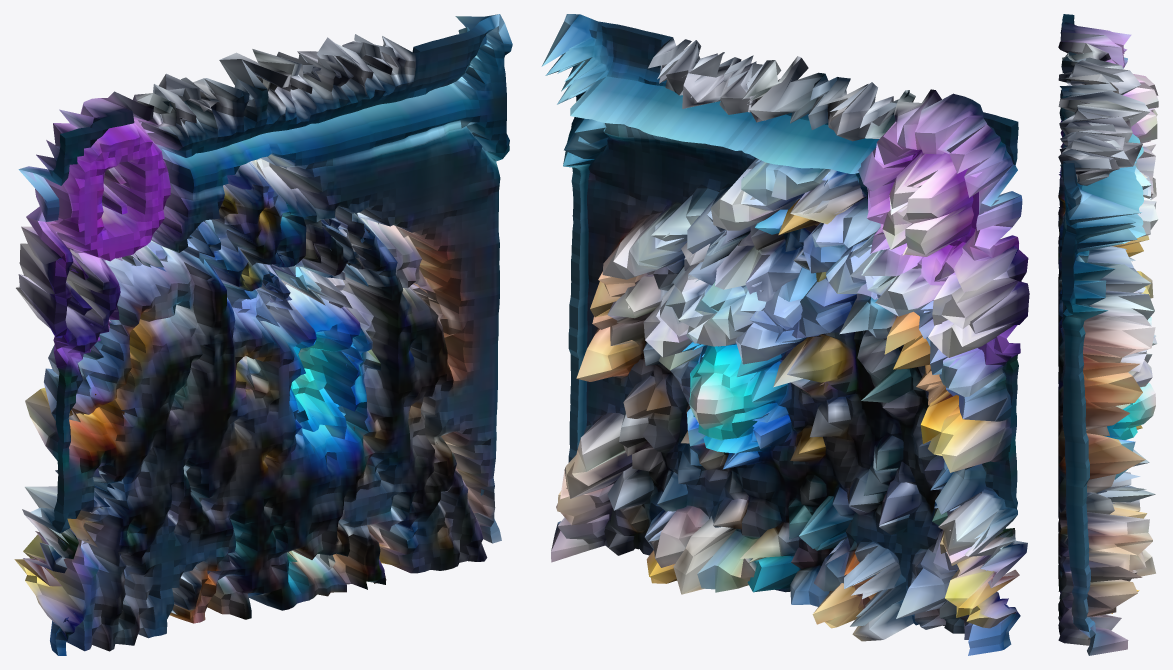
File: colosse-atlas-relief.glb
3 views of the same model, side by side, from view 1: azimuth 30°, elevation 25°; view 2: azimuth 150°, elevation 25°; view 3: azimuth 270°, elevation 25° (orthographic). The views are drawn at different scales.
Visible parts, largest first — view 1: RELIEF_REFERENCE_colosse-atlas; view 2: RELIEF_REFERENCE_colosse-atlas; view 3: RELIEF_REFERENCE_colosse-atlas.
Boxes of the visible parts, x1,y1,x2,y2 form: RELIEF_REFERENCE_colosse-atlas: (14,14,512,655); RELIEF_REFERENCE_colosse-atlas: (541,14,1029,655); RELIEF_REFERENCE_colosse-atlas: (1058,14,1158,655).
Bounding box in the file's own units: 3.15 × 3.52 × 0.6868.
Materials: 1 (1 with a texture image).
